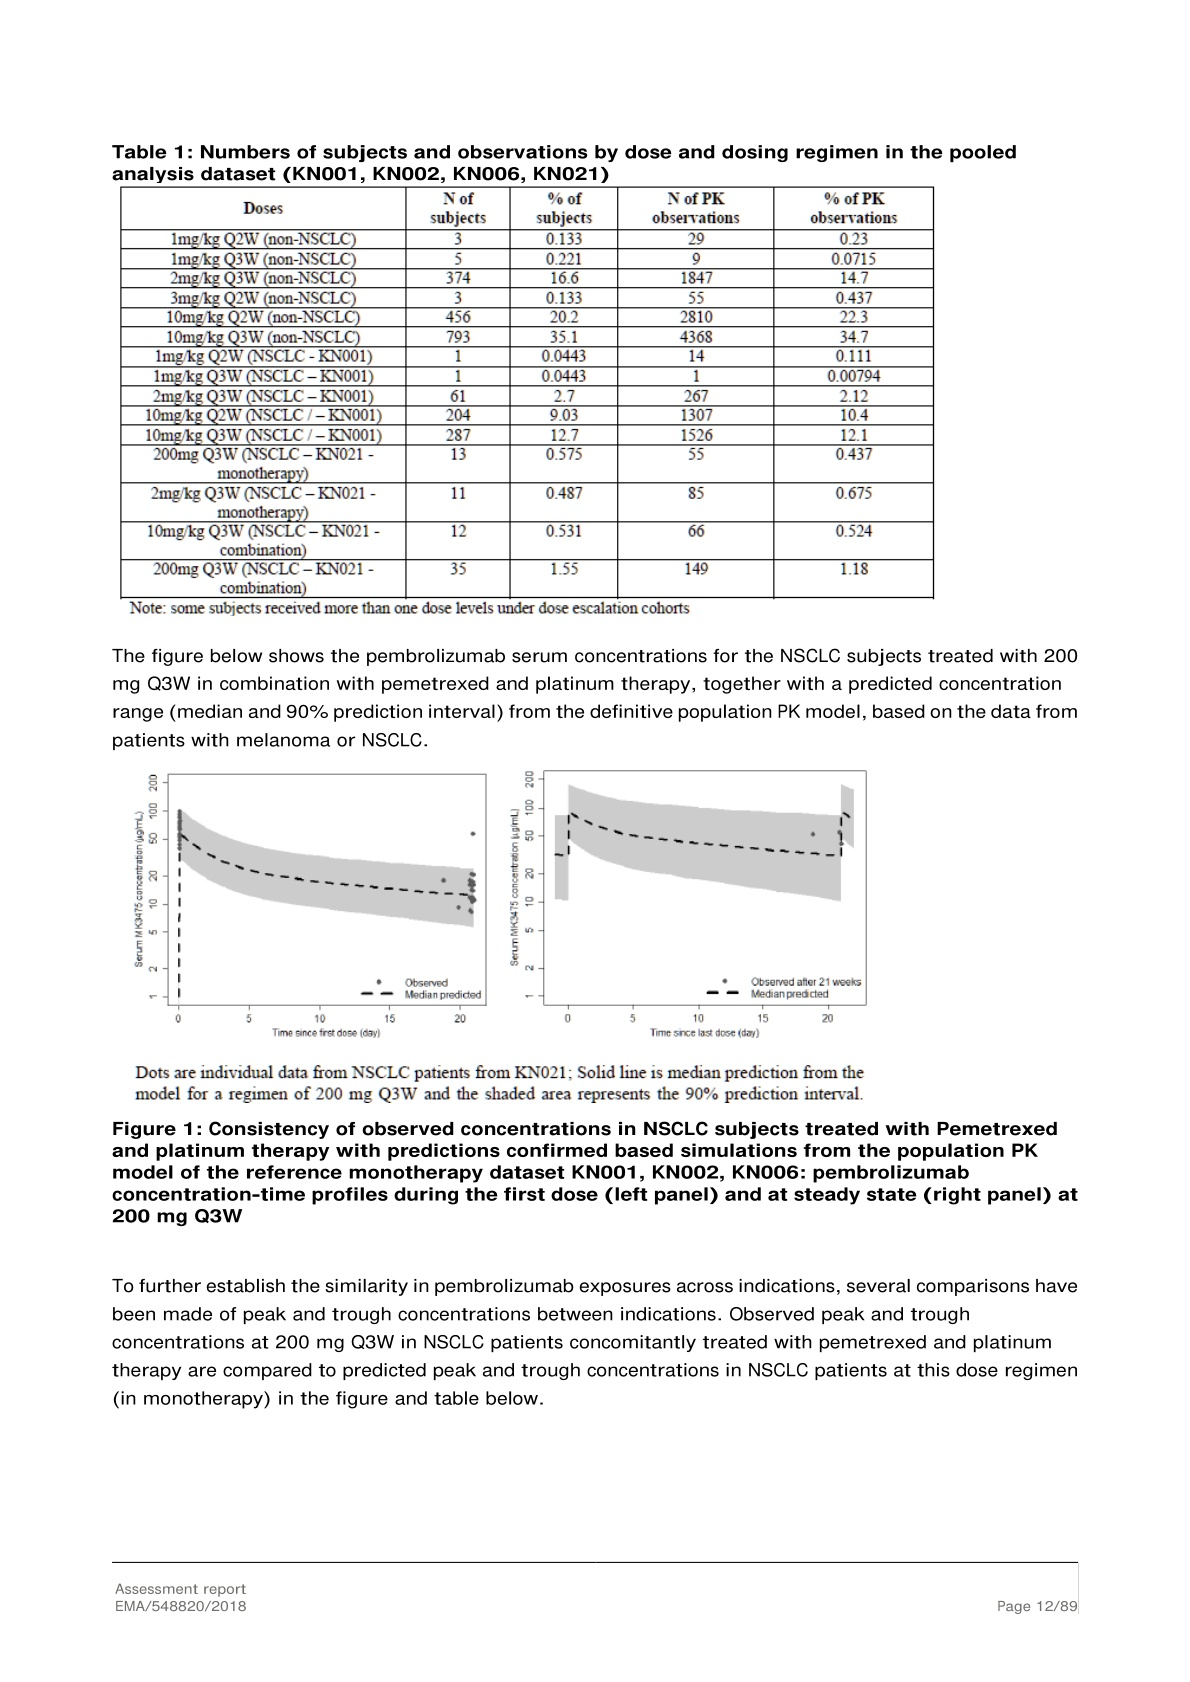full_lined: (118, 185, 935, 600)
